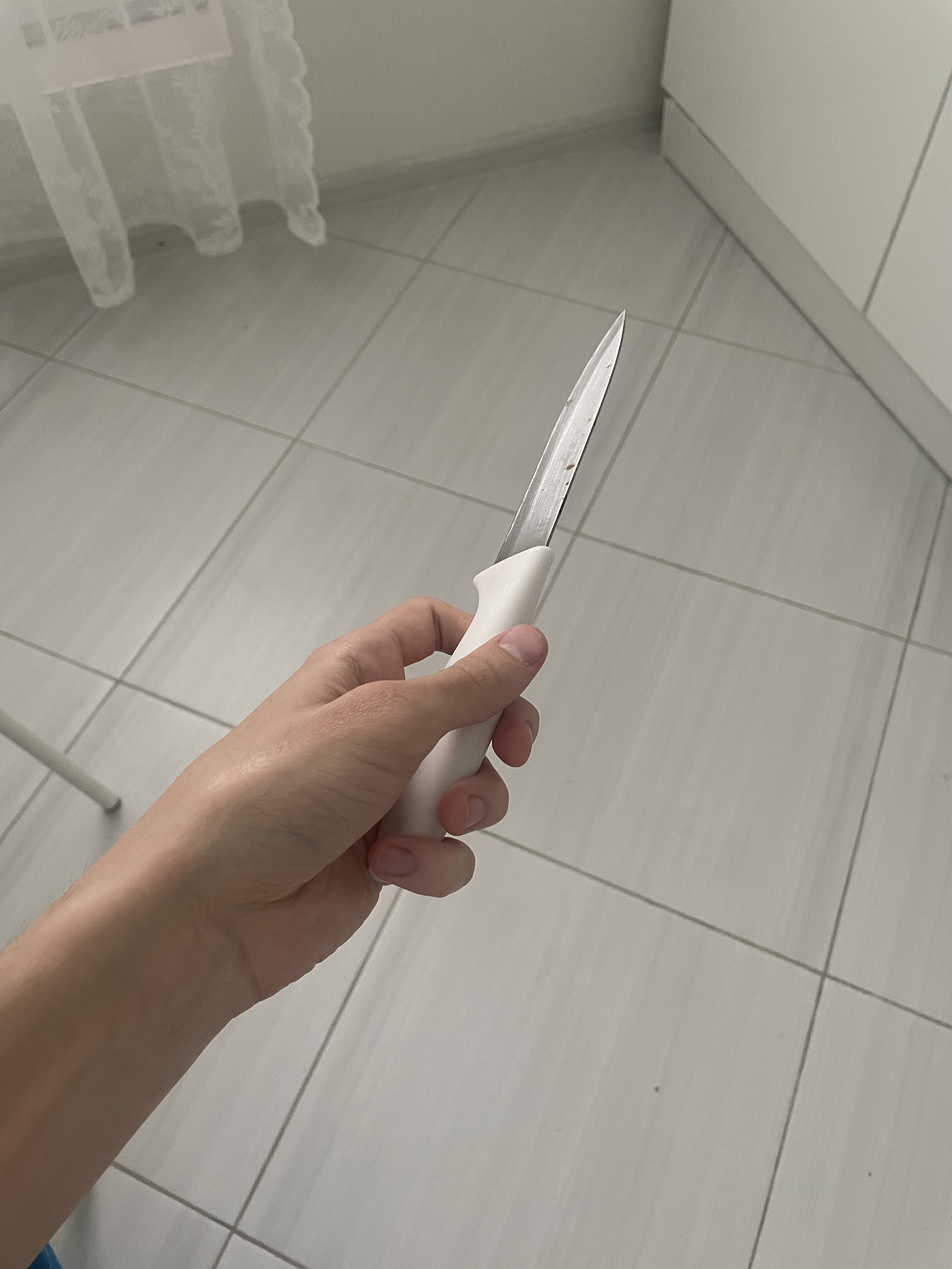knife: (379, 313, 625, 841)
